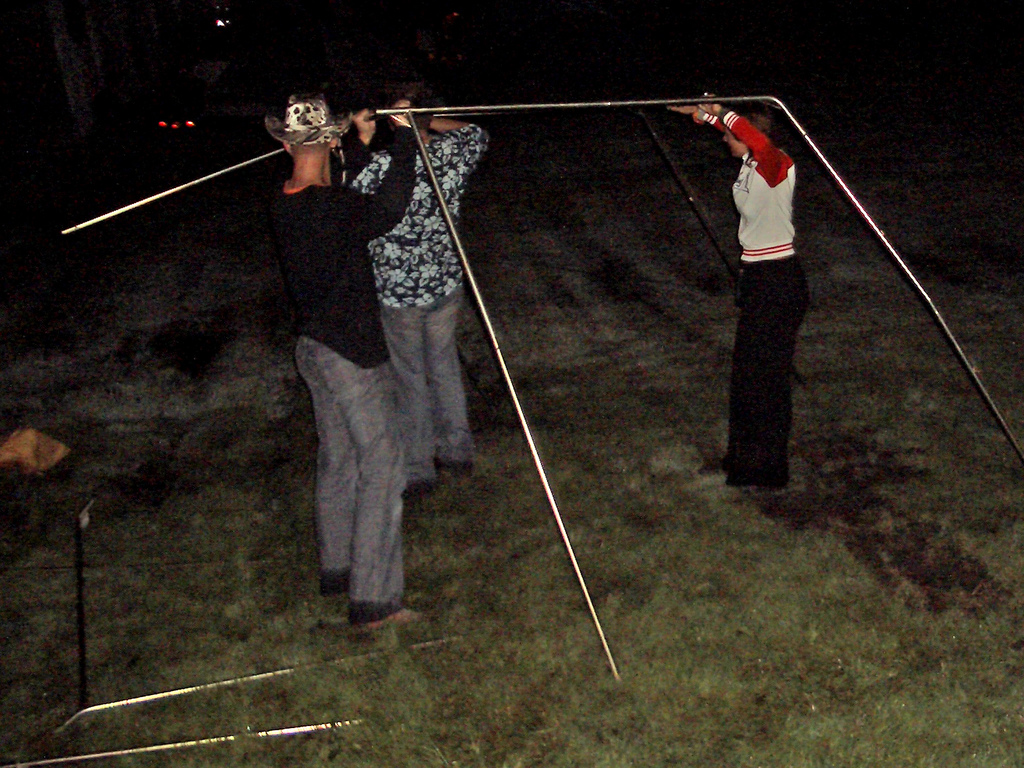person: (347, 70, 488, 487)
